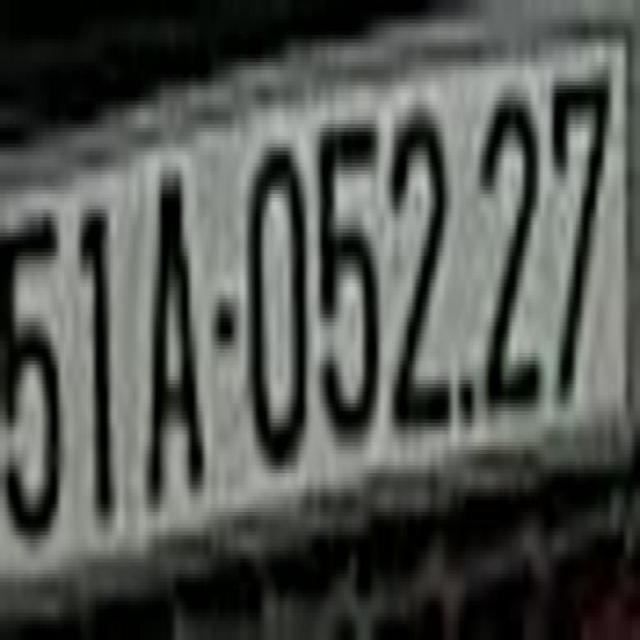0: (242, 109, 308, 478)
1: (72, 182, 129, 547)
2: (388, 58, 452, 462), (478, 73, 548, 434)
5: (314, 90, 386, 470), (2, 198, 64, 543)
7: (548, 54, 610, 400)
A: (144, 148, 208, 528)
